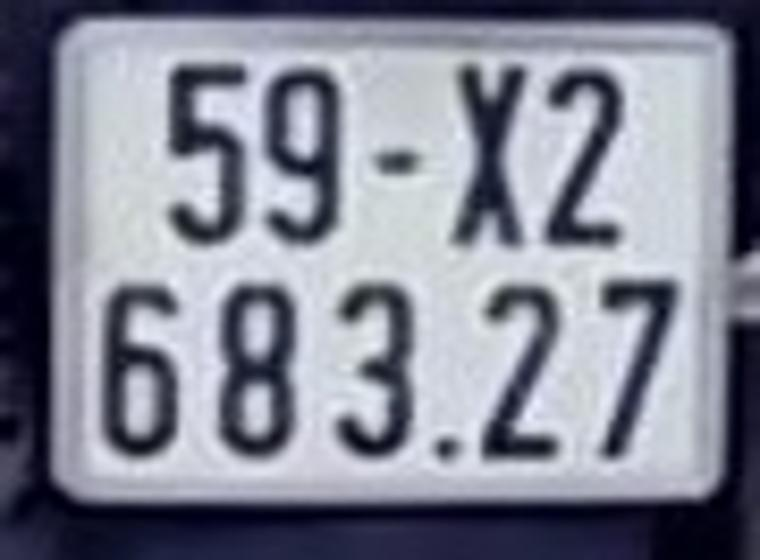-: (368, 145, 431, 181)
.: (433, 433, 468, 466)
2: (469, 272, 571, 459), (540, 64, 631, 257)
3: (325, 275, 421, 460)
5: (162, 52, 257, 244)
6: (100, 280, 188, 462)
7: (599, 274, 687, 464)
8: (215, 276, 304, 469)
9: (258, 61, 345, 256)
X: (444, 58, 533, 255)
